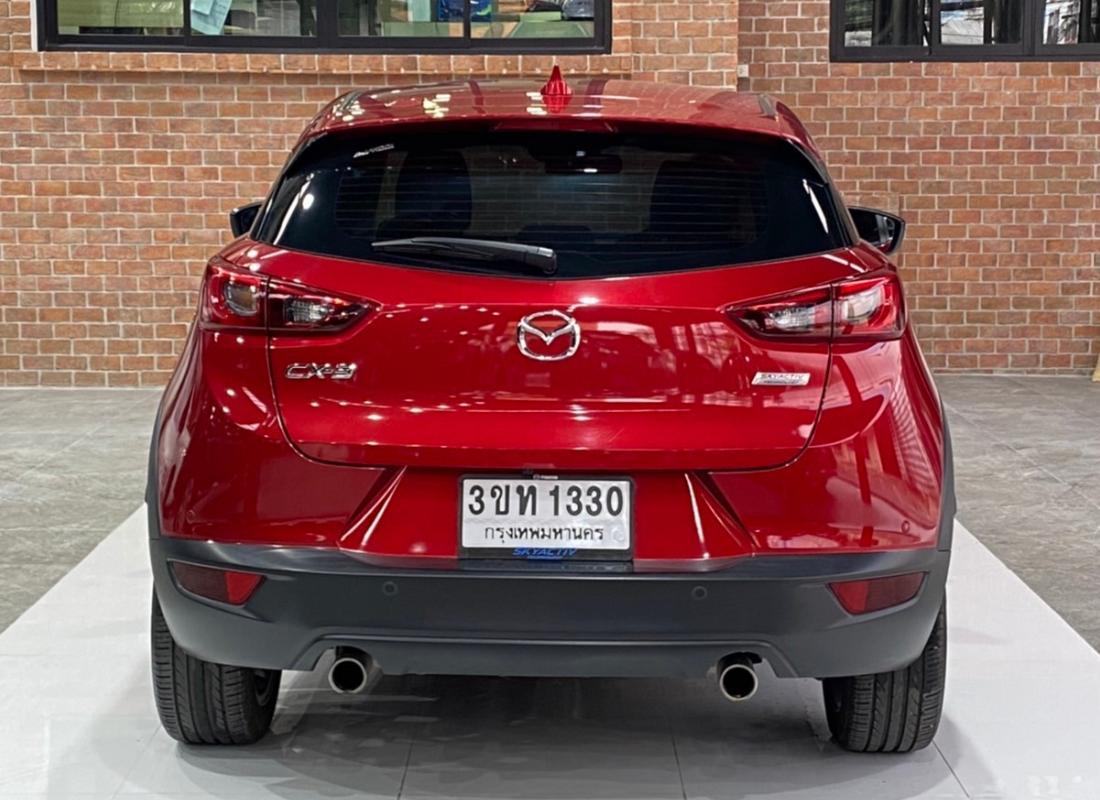license-plate: (459, 472, 636, 558)
